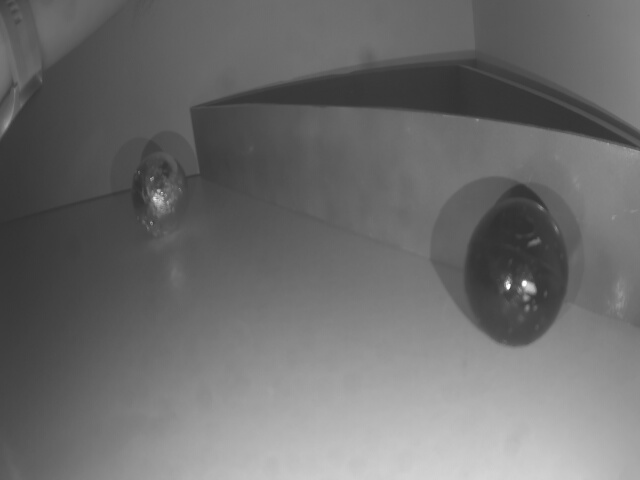Dead: (462, 199, 571, 347)
Live: (131, 159, 189, 239)
Red: (186, 107, 640, 331)
